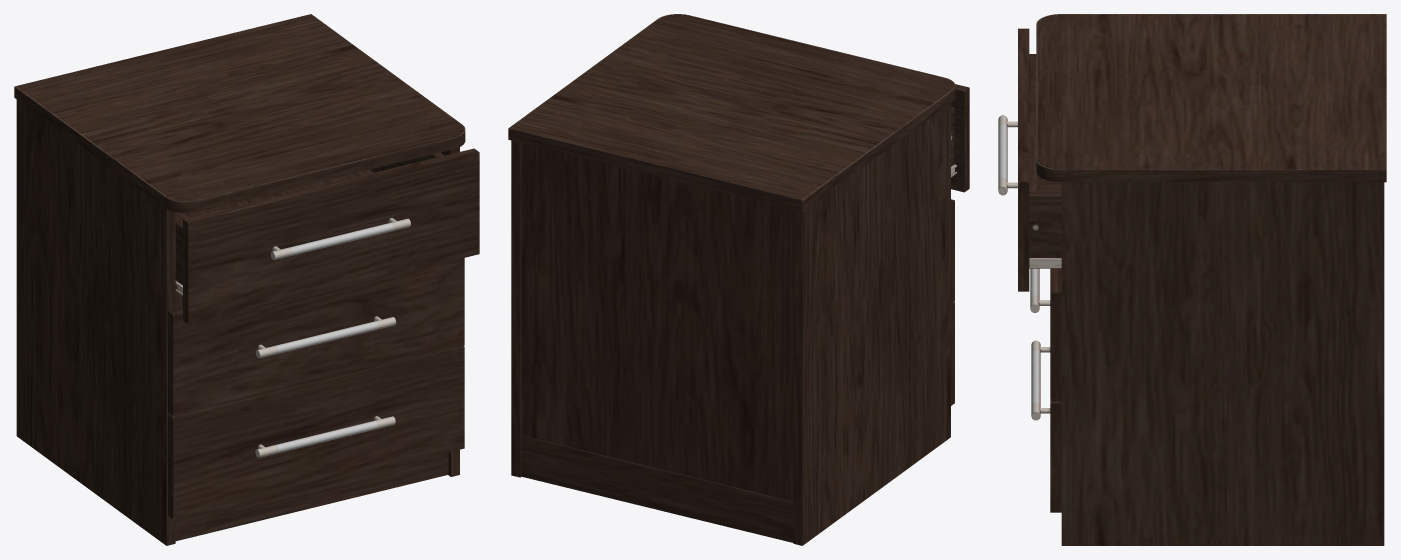
File: Bedside_drawers.glb
3 renders of one model, left to right at view 1: azimuth 30°, elevation 25°; view 2: azimuth 150°, elevation 25°; view 3: azimuth 270°, elevation 25°, orthographic. The views are drawn at different scales.
Visible parts, largest first — view 1: Bedside_Table_2_LP_Bedside_Table_1_0, Bedside_Table_2_LP_Bedside_Table_2_0; view 2: Bedside_Table_2_LP_Bedside_Table_1_0; view 3: Bedside_Table_2_LP_Bedside_Table_1_0, Bedside_Table_2_LP_Bedside_Table_2_0.
Boxes of the visible parts, x1,y1,x2,y2 form: Bedside_Table_2_LP_Bedside_Table_1_0: [14, 14, 479, 545]; Bedside_Table_2_LP_Bedside_Table_2_0: [175, 218, 411, 457]; Bedside_Table_2_LP_Bedside_Table_1_0: [508, 14, 969, 545]; Bedside_Table_2_LP_Bedside_Table_1_0: [1018, 14, 1386, 545]; Bedside_Table_2_LP_Bedside_Table_2_0: [998, 115, 1061, 420].
Size of the model in its own units: 0.4927 by 0.555 by 0.5182.
Materials: 2 (2 with a texture image).
